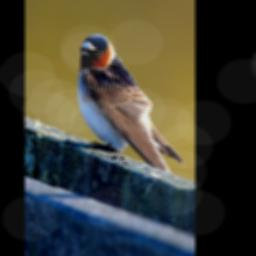Swallow: (76, 33, 184, 179)
